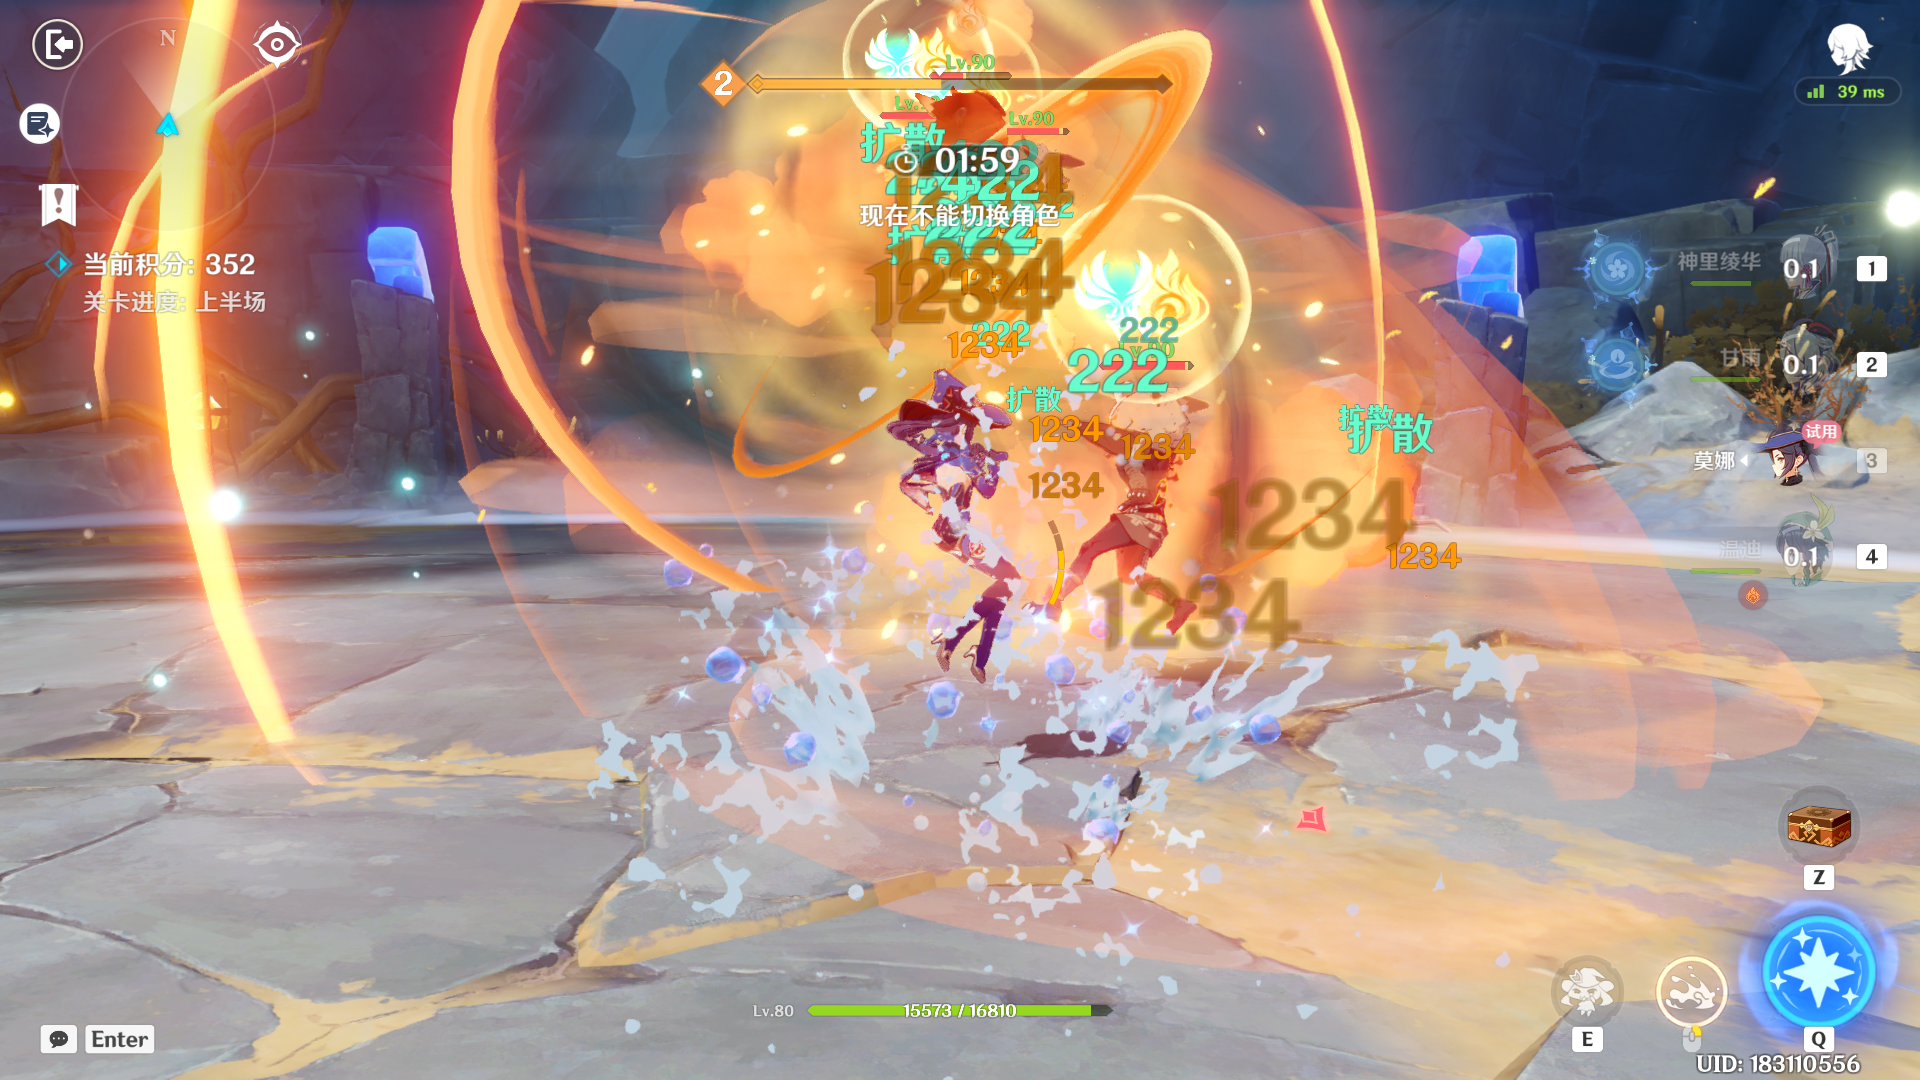character: (855, 324, 1104, 756)
hili: (1040, 353, 1220, 688)
